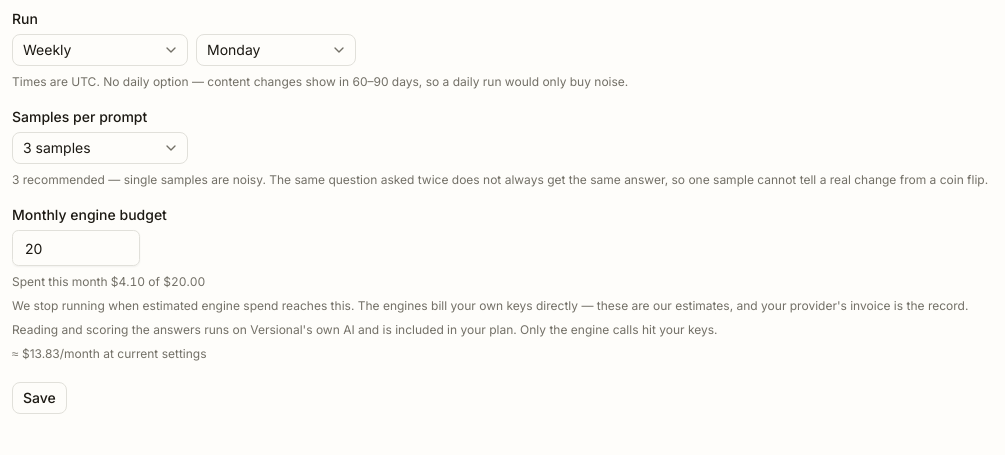
Test: AiVisibilityForm › the cap's legal range › refuses an emptied field rather than reading it as zero
Step 1. Clear the number field labelled "Monthly engine budget" → [76, 248], box [12,230,140,266]
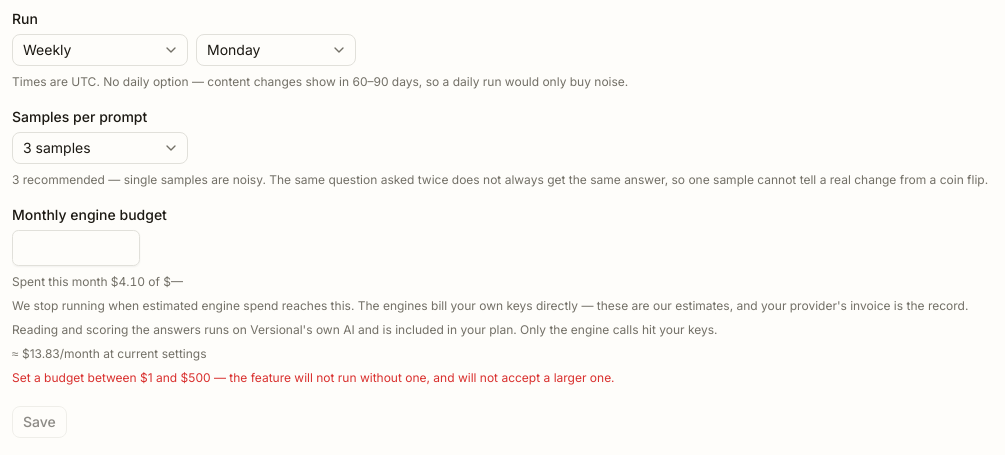
Check: the button "Save" is disabled, box [12,406,67,438]
Check: the text "between $1 and $500" is shown, box [12,370,615,385]
Check: the text "Spent this month $4.10 of $—" is shown, box [12,274,183,289]
